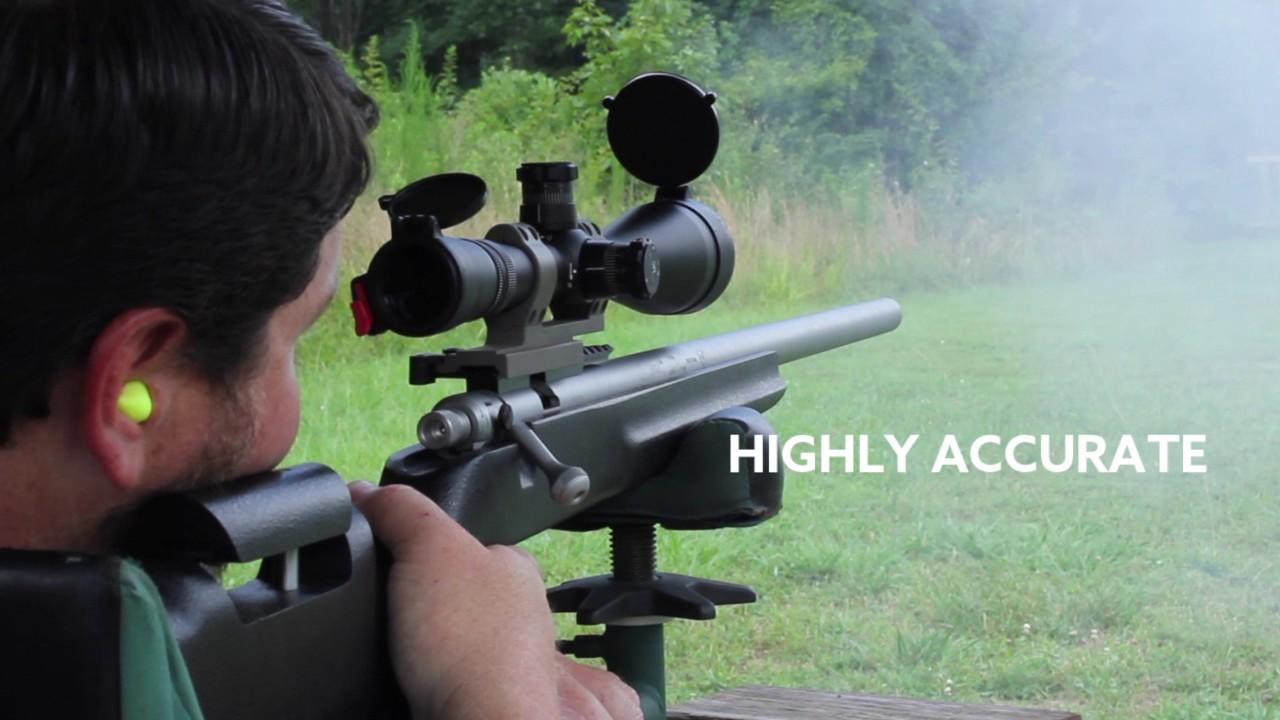Gun: (385, 151, 911, 505)
